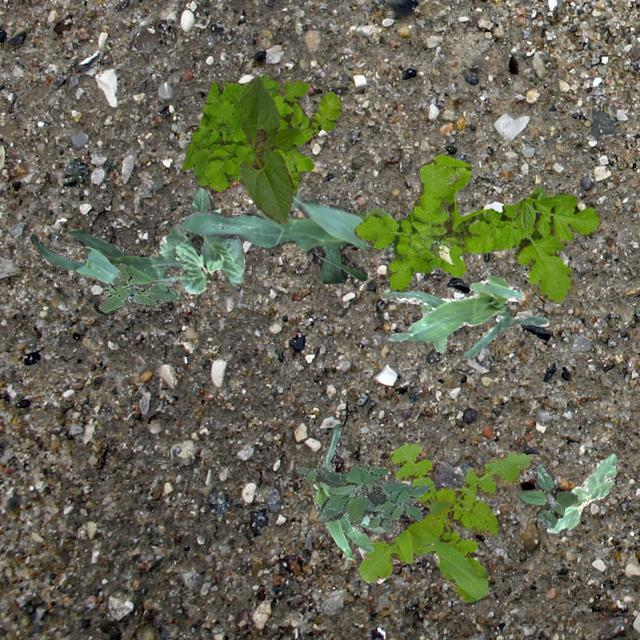crop: (176, 192, 394, 282), (377, 272, 548, 358), (312, 422, 384, 558), (237, 74, 300, 222), (158, 185, 244, 292), (30, 228, 182, 286), (546, 452, 616, 532), (419, 304, 446, 352)
weed: (352, 154, 600, 302), (358, 442, 532, 600), (182, 73, 341, 194), (294, 462, 428, 532), (98, 262, 180, 312), (518, 463, 576, 528), (388, 236, 436, 252)
